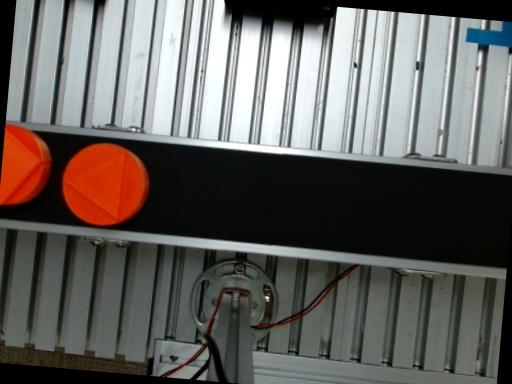Not_Square: (63, 149, 124, 221)
Orange_Waper: (62, 142, 148, 225), (0, 124, 50, 204)
